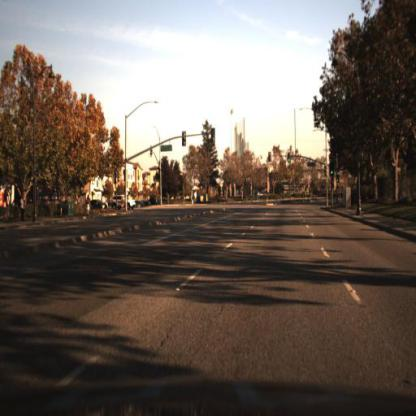car: (109, 193, 137, 214), (111, 196, 138, 208)
pedestrian: (84, 193, 94, 224), (85, 194, 92, 218)
trafficLight-Green: (329, 159, 338, 181), (327, 168, 335, 182), (287, 154, 293, 167)
trafficLight-RedLeft: (268, 150, 274, 163)
